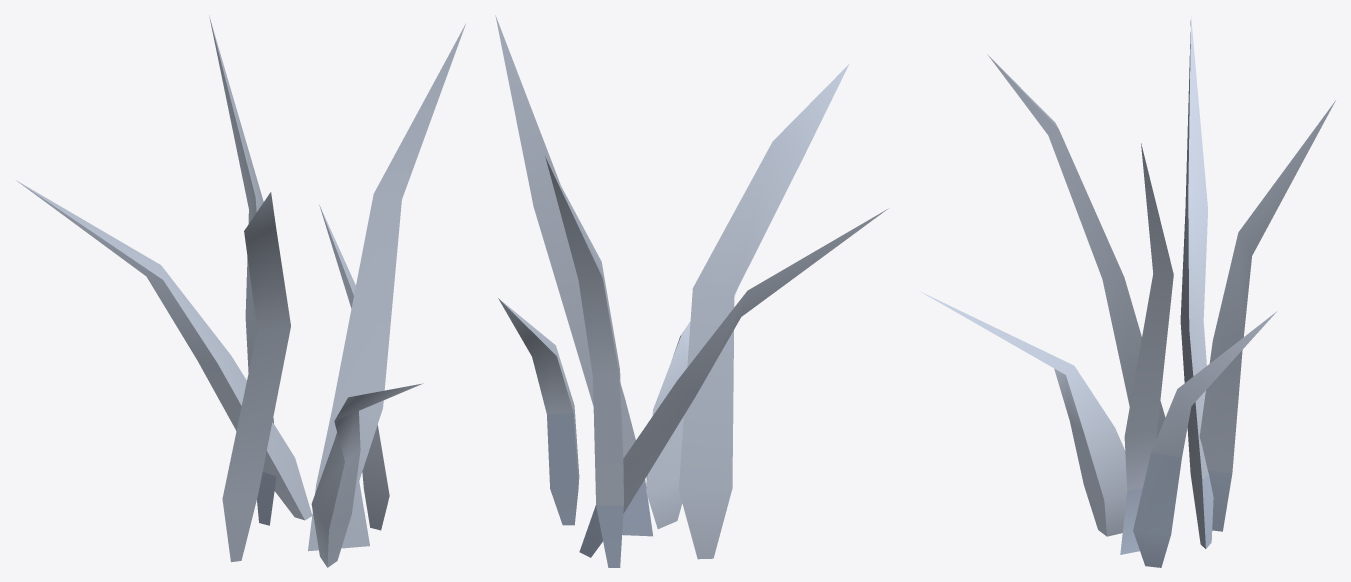
Rendered from Snow_Plant_02.fbx.
3 views of the same model, side by side, from view 1: azimuth 30°, elevation 25°; view 2: azimuth 150°, elevation 25°; view 3: azimuth 270°, elevation 25° (orthographic). The views are drawn at different scales.
Parts seen in each view (by area): view 1: Snow_grass_01; view 2: Snow_grass_01; view 3: Snow_grass_01.
Boxes of the visible parts, box(x1,y1,x2,y2) form: Snow_grass_01: box(16, 15, 465, 567); Snow_grass_01: box(495, 15, 888, 567); Snow_grass_01: box(920, 16, 1335, 567).
Size of the model in its own units: 0.9441 by 1.04 by 0.8507.
